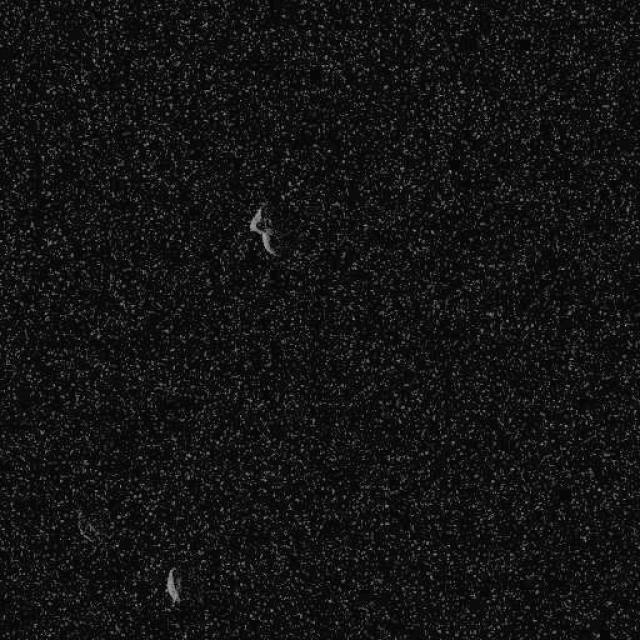D2: (248, 205, 278, 257), (164, 565, 182, 604)
